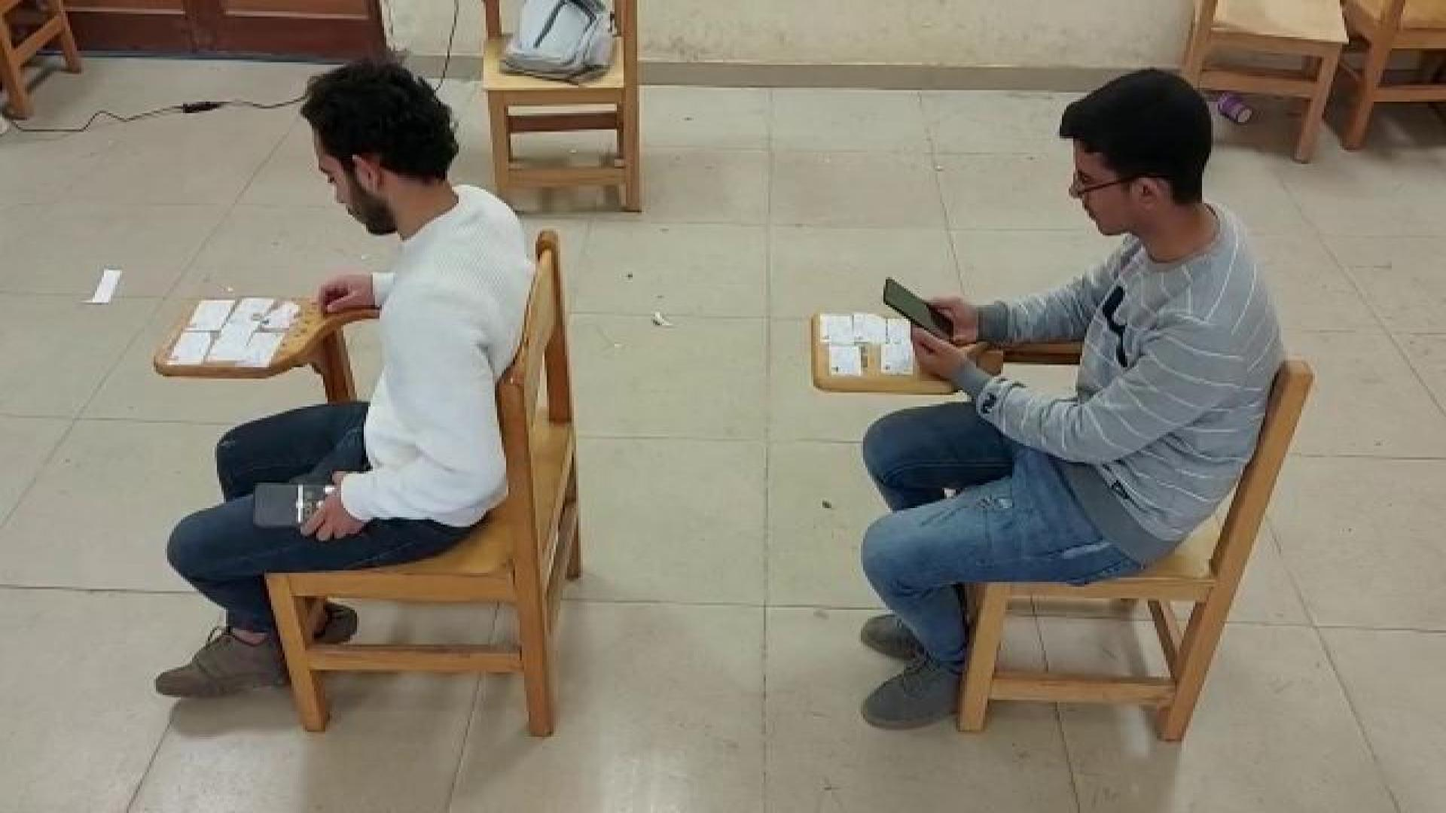phone: (249, 476, 364, 534), (881, 274, 956, 347)
